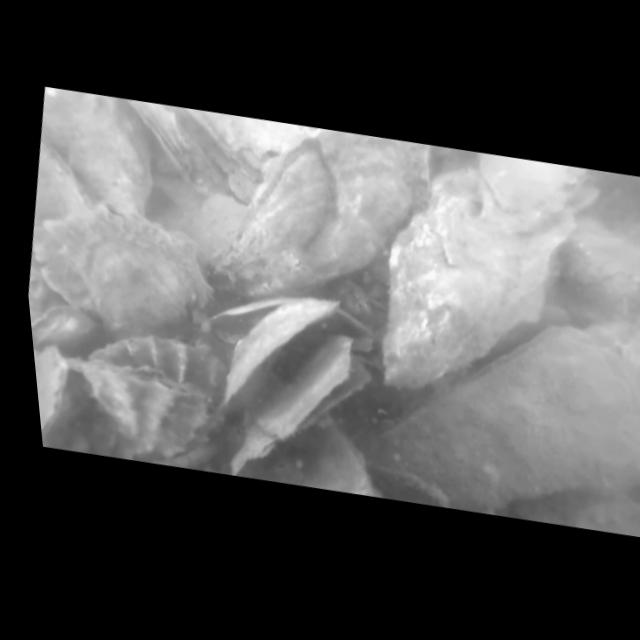Oyster-Closed: (340, 286, 640, 546), (354, 136, 604, 421), (25, 187, 230, 355), (213, 120, 356, 291), (61, 346, 226, 469), (22, 139, 101, 257), (112, 97, 203, 182), (33, 339, 80, 449)
Oyster-Indeterminate: (280, 124, 449, 310), (25, 84, 169, 221)
Oyster-Open: (199, 279, 369, 455)
